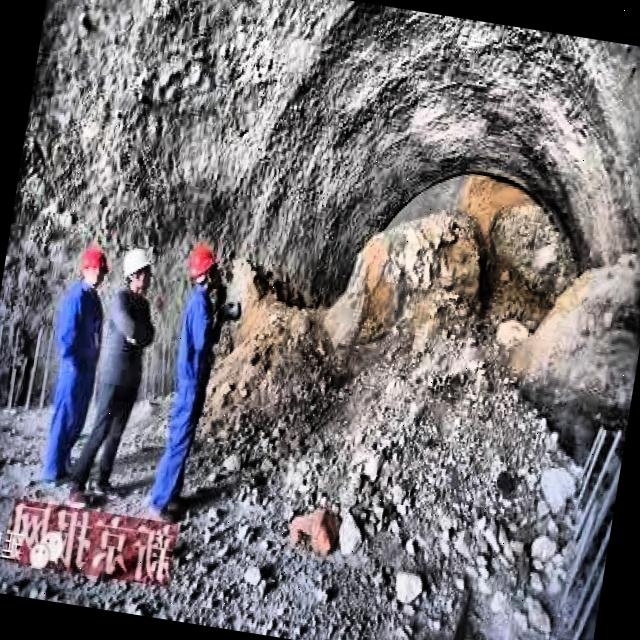helmet: (184, 233, 227, 298), (118, 240, 159, 296), (76, 244, 110, 290)
